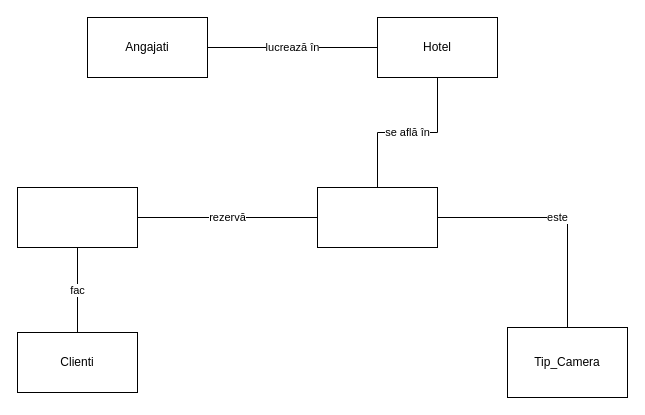
This 645x415 diagram has some shape labels left out. Here are the shapes that lost their labels. From the top down, the centre of each, then its label:
the point at 77,217: Rezervari
the point at 377,217: Camera
